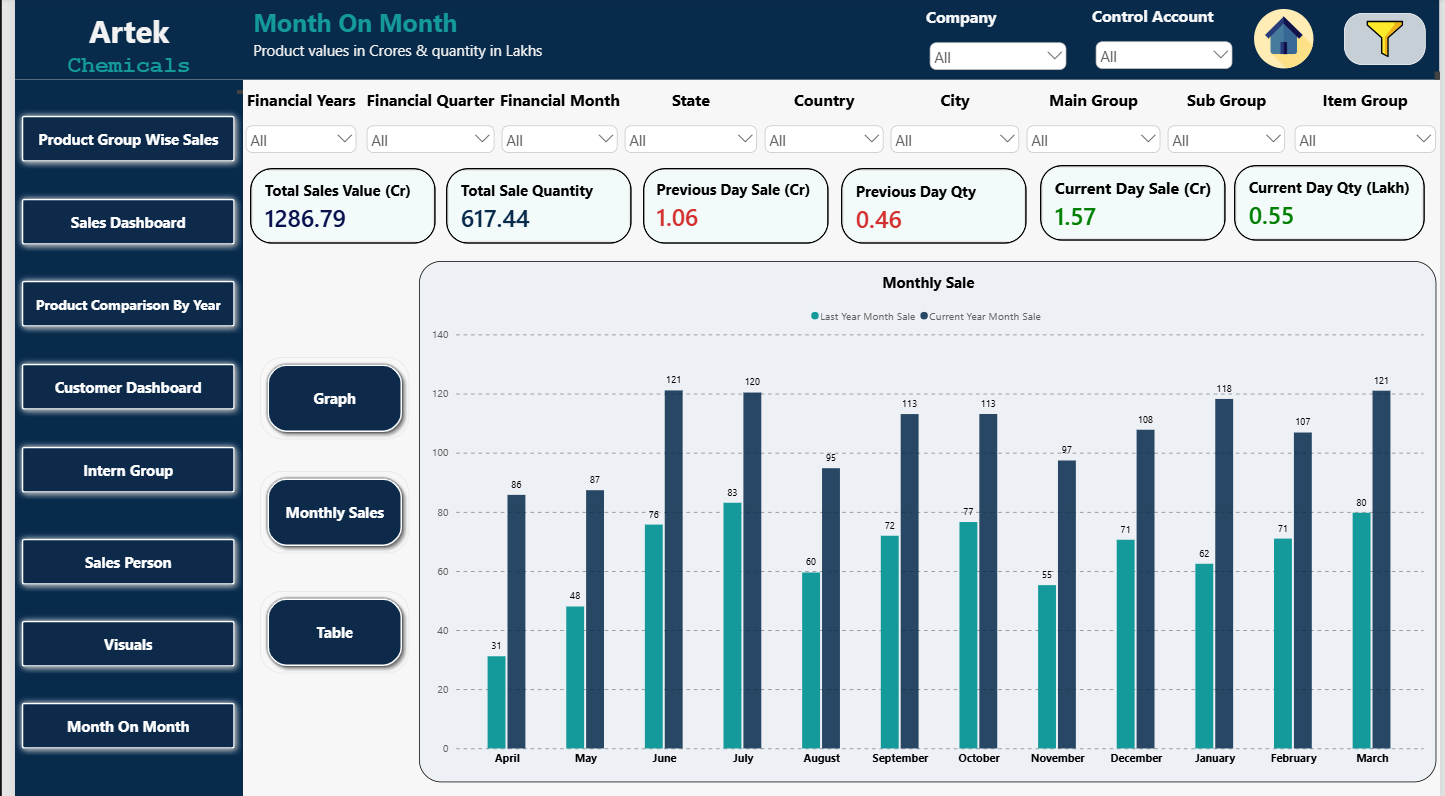

The page's visual inventory and layout, read from the dashboard file:
{"tool":"powerbi","page":{"name":"Month On Month","canvas":[1920,1080],"ordinal":8},"visuals":[{"type":"shape","box":[0,110,307.1,970],"z":0},{"type":"cardVisual","fields":{"Data":["FactSales.Total Quantity"]},"box":[580.3,228.6,250.3,102],"z":1000},{"type":"shape","box":[0,0,1918.3,110],"z":2000},{"type":"cardVisual","fields":{"Data":["FactSales.Previous Day Qty (Lakh)"]},"box":[1112.7,228.6,250,102],"z":3000},{"type":"textbox","title":"Month On Month","box":[305.9,0,1614.1,109.8],"z":4000},{"type":"cardVisual","fields":{"Data":["FactSales.Current Day Sale (Cr)"]},"box":[1379.7,225.4,250.3,102],"z":5000},{"type":"textbox","title":"Artek","box":[0,0,307.1,128.6],"z":6000},{"type":"cardVisual","fields":{"Data":["FactSales.Current Day Qty (Lakh)"]},"box":[1641.8,225.4,257.4,102.3],"z":7000},{"type":"actionButton","title":"Product Group wise Sales","box":[0,149.7,305,80],"z":8000,"group":"g1"},{"type":"clusteredColumnChart","title":"Monthly Sale ","fields":{"Category":["Calendar.Month Name"],"Y":["FactSales.Last Year Month Sale","FactSales.Current Year Month Sale"]},"box":[544,353.6,1369.6,702.4],"z":8000},{"type":"actionButton","title":"Product Group wise Sales","box":[0,261.6,305,80],"z":9000,"group":"g1"},{"type":"actionButton","box":[329.9,798.6,201.2,110.9],"z":9000},{"type":"actionButton","title":"Product Group wise Sales","box":[0,371.9,305,80],"z":10000,"group":"g1"},{"type":"actionButton","box":[329.5,636.8,201.2,110.9],"z":10000},{"type":"slicer","title":"State","fields":{"Values":["FactSales.Area Name"]},"box":[815.9,123.2,188.1,89.6],"z":11000},{"type":"actionButton","box":[329.5,483.2,201.2,110.9],"z":11000},{"type":"actionButton","title":"Product Group wise Sales","box":[0,483.8,305,80],"z":11000,"group":"g1"},{"type":"slicer","title":"Country","fields":{"Values":["FactSales.LOCATIONNAME"]},"box":[1004,123.2,170.1,89.6],"z":12000},{"type":"cardVisual","fields":{"Data":["FactSales.Previous Day Sale (Cr)"]},"box":[845.7,228.6,250,102],"z":12000},{"type":"actionButton","title":"Product Group wise Sales","box":[0,595.7,305,80],"z":12000,"group":"g1"},{"type":"slicer","title":"City","fields":{"Values":["FactSales.CITY"]},"box":[1174.1,123.2,183.2,89.6],"z":13000},{"type":"actionButton","title":"Product Group wise Sales","box":[0,719.7,305,80],"z":13000,"group":"g1"},{"type":"slicer","title":"Item Group","fields":{"Values":["FactSales.ITEM_GROUP"]},"box":[1718.8,123.2,199.6,89.6],"z":14000},{"type":"group","id":"g1","title":"Group 4","box":[0,149.7,305,870.7],"z":14000},{"type":"actionButton","title":"Product Group wise Sales","box":[0,830,305,80],"z":14000,"group":"g1"},{"type":"slicer","title":"Control Account","fields":{"Values":["FactSales.CONTROL_ACCOUNT"]},"box":[1449.8,10,194.3,90],"z":15000},{"type":"slicer","title":"Main Group","fields":{"Values":["FactSales.MAIN_GROUP"]},"box":[1357.3,123.2,189.7,89.6],"z":15000},{"type":"actionButton","title":"Product Group wise Sales","box":[0,940.4,305,80],"z":15000,"group":"g1"},{"type":"slicer","title":"Sub Group","fields":{"Values":["FactSales.SUB_GROUP"]},"box":[1547.1,123.2,168.5,89.6],"z":16000},{"type":"slicer","title":"Financial Quarter","fields":{"Values":["Calendar.Fiscal Quarter"]},"box":[469.2,123.2,181.6,89.6],"z":17000},{"type":"slicer","title":"Company","fields":{"Values":["FactSales.COMPANY"]},"box":[1226.7,10.3,194.3,90],"z":18000},{"type":"slicer","title":"Financial Month","fields":{"Values":["Calendar.Month Name"]},"box":[650.7,123.2,166.3,90.4],"z":18000},{"type":"slicer","title":"Financial Years","fields":{"Values":["Calendar.Fiscal Year"]},"box":[305.6,123.2,159.2,90.4],"z":19000},{"type":"cardVisual","fields":{"Data":["FactSales.Total Sales Value (Cr)"]},"box":[316.5,228.6,250.3,102],"z":19000},{"type":"image","box":[1641.7,15,133.3,80],"z":20000},{"type":"image","box":[1790,20,109.8,69.5],"z":21000}]}

Visuals, with their boxes in screenshot pixels (x1, y1, x2, y2), scaled from the page's 1920x1080 canvas onto the 1445x796 screenshot:
shape: rect(0, 81, 231, 795)
cardVisual - FactSales.Total Quantity: rect(437, 168, 625, 244)
shape: rect(0, 0, 1444, 81)
cardVisual - FactSales.Previous Day Qty (Lakh): rect(837, 168, 1026, 244)
"Month On Month" textbox: rect(230, 0, 1444, 81)
cardVisual - FactSales.Current Day Sale (Cr): rect(1038, 166, 1227, 241)
"Artek" textbox: rect(0, 0, 231, 95)
cardVisual - FactSales.Current Day Qty (Lakh): rect(1236, 166, 1429, 242)
"Product Group wise Sales" actionButton: rect(0, 110, 230, 169)
"Monthly Sale " clusteredColumnChart: rect(409, 261, 1440, 778)
"Product Group wise Sales" actionButton: rect(0, 193, 230, 252)
actionButton: rect(248, 589, 400, 670)
"Product Group wise Sales" actionButton: rect(0, 274, 230, 333)
actionButton: rect(248, 469, 399, 551)
"State" slicer: rect(614, 91, 756, 157)
actionButton: rect(248, 356, 399, 438)
"Product Group wise Sales" actionButton: rect(0, 357, 230, 416)
"Country" slicer: rect(756, 91, 884, 157)
cardVisual - FactSales.Previous Day Sale (Cr): rect(636, 168, 825, 244)
"Product Group wise Sales" actionButton: rect(0, 439, 230, 498)
"City" slicer: rect(884, 91, 1022, 157)
"Product Group wise Sales" actionButton: rect(0, 530, 230, 589)
"Item Group" slicer: rect(1294, 91, 1444, 157)
"Group 4" group: rect(0, 110, 230, 752)
"Product Group wise Sales" actionButton: rect(0, 612, 230, 671)
"Control Account" slicer: rect(1091, 7, 1237, 74)
"Main Group" slicer: rect(1022, 91, 1164, 157)
"Product Group wise Sales" actionButton: rect(0, 693, 230, 752)
"Sub Group" slicer: rect(1164, 91, 1291, 157)
"Financial Quarter" slicer: rect(353, 91, 490, 157)
"Company" slicer: rect(923, 8, 1069, 74)
"Financial Month" slicer: rect(490, 91, 615, 157)
"Financial Years" slicer: rect(230, 91, 350, 157)
cardVisual - FactSales.Total Sales Value (Cr): rect(238, 168, 427, 244)
image: rect(1236, 11, 1336, 70)
image: rect(1347, 15, 1430, 66)
